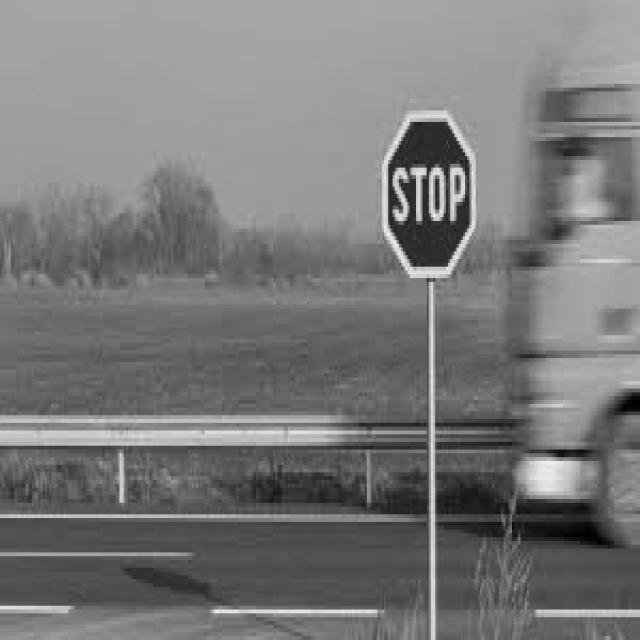stop sign: (380, 106, 477, 280)
